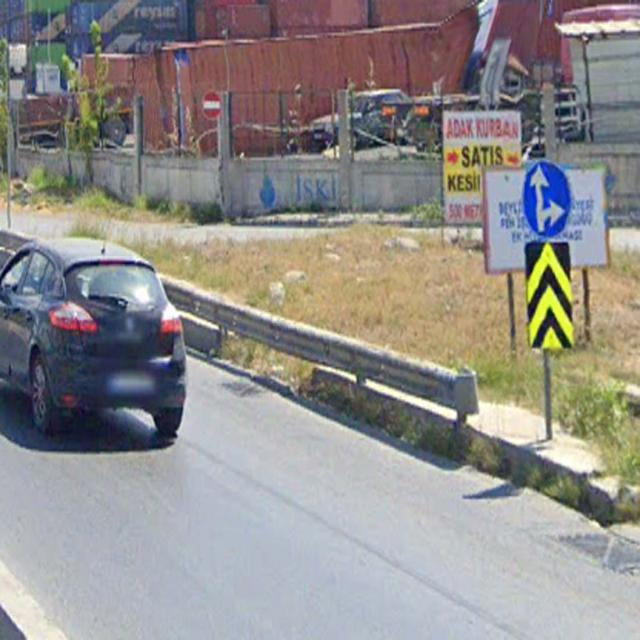girisyok: (202, 92, 222, 120)
ilerisag: (522, 158, 570, 238)
